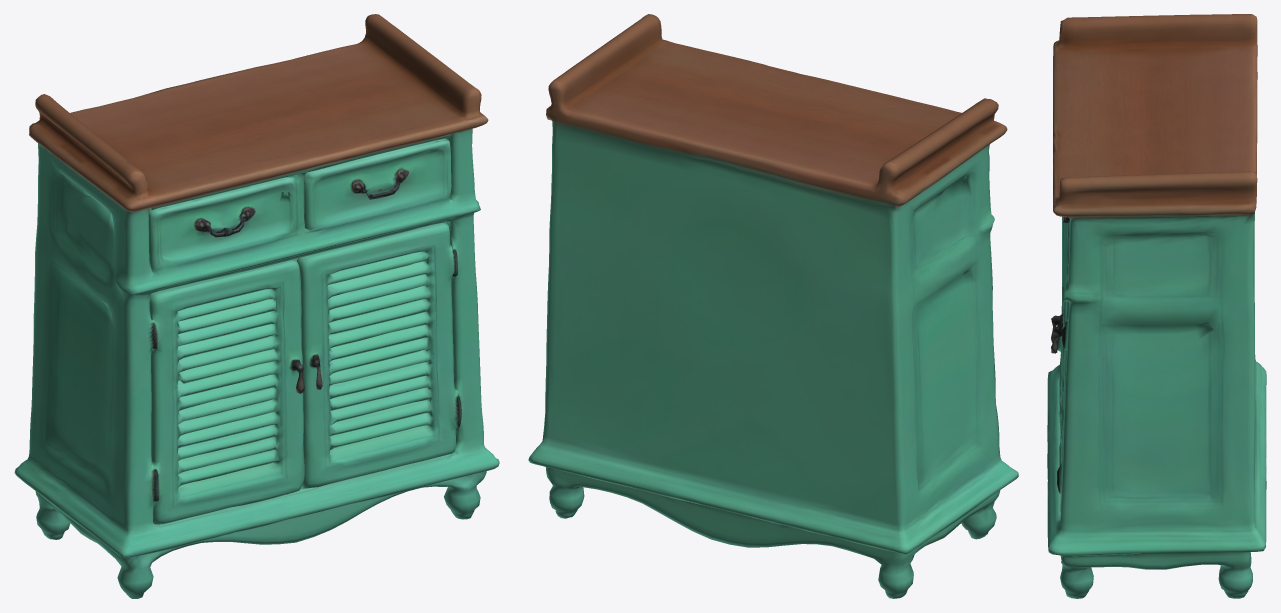
The model's file is junction-cabinet.glb.
3 renders of one model, left to right at view 1: azimuth 30°, elevation 25°; view 2: azimuth 150°, elevation 25°; view 3: azimuth 270°, elevation 25°, orthographic. The views are drawn at different scales.
Visible parts, largest first — view 1: model; view 2: model; view 3: model.
Boxes of the visible parts, <box> form: model: <box>14,14,499,598</box>; model: <box>528,14,1018,598</box>; model: <box>1047,14,1266,598</box>.
Bounding box in the file's own units: 1.73 × 1.9 × 0.8858.
1 material, 1 textured.
